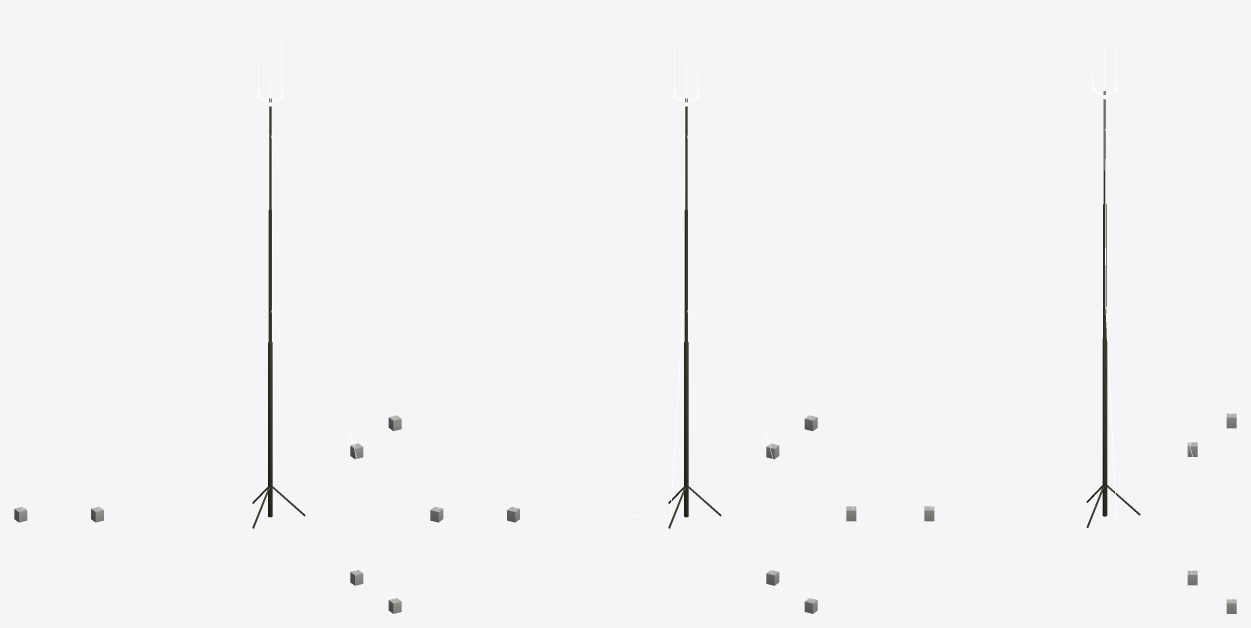
File: radio_mast.glb
The picture shows the model from 3 angles, left to right: view 1: azimuth 30°, elevation 25°; view 2: azimuth 150°, elevation 25°; view 3: azimuth 270°, elevation 25°; orthographic projection.
Parts seen in each view (by area): view 1: radio_mast_LOD0; view 2: radio_mast_LOD0; view 3: radio_mast_LOD0.
Part boxes in pixels (x1=…): radio_mast_LOD0: x1=14, y1=14, x2=401, y2=613; radio_mast_LOD0: x1=430, y1=14, x2=817, y2=613; radio_mast_LOD0: x1=846, y1=14, x2=1236, y2=613.
Size of what is drawn, in the model's own units: 11.51 by 14.45 by 10.
